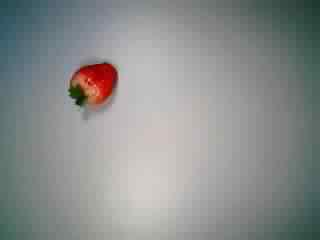strawberry: (57, 50, 125, 114)
